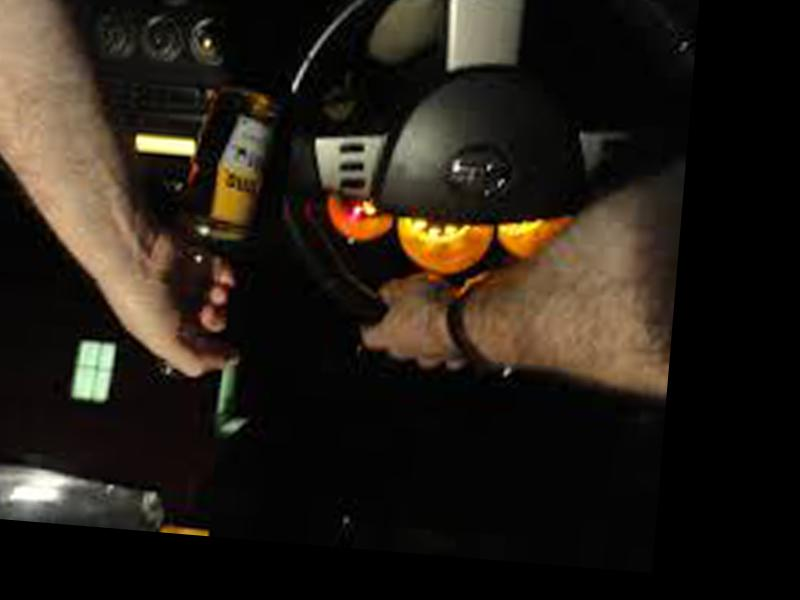Beer: (153, 86, 291, 382)
